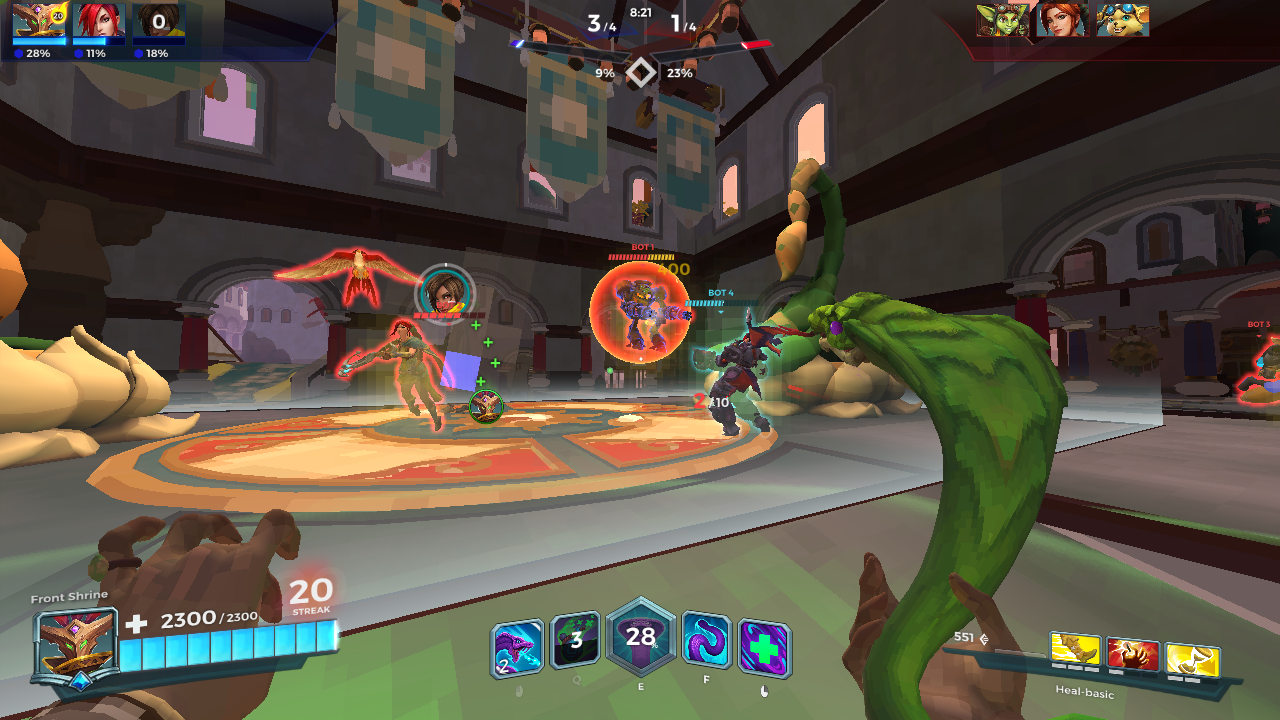model: (339, 309, 451, 430), (616, 274, 677, 356)
